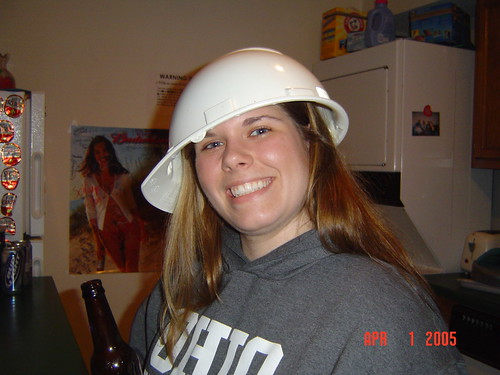person hardhat: (133, 46, 462, 375)
